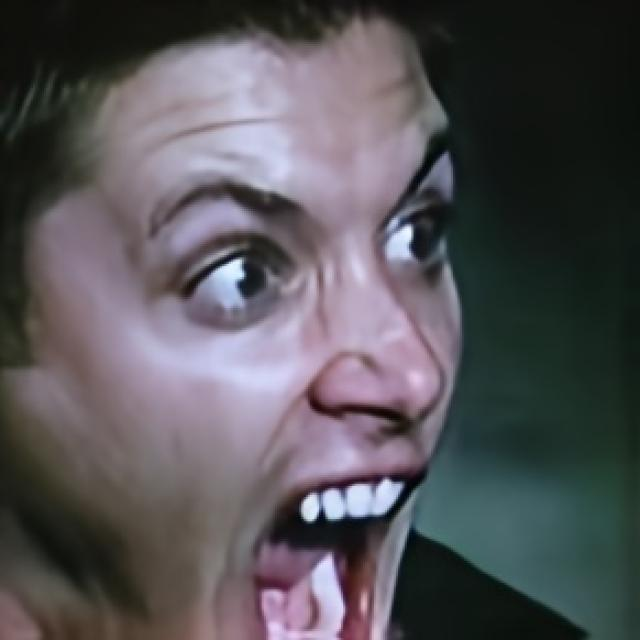fear: (0, 5, 464, 640)
